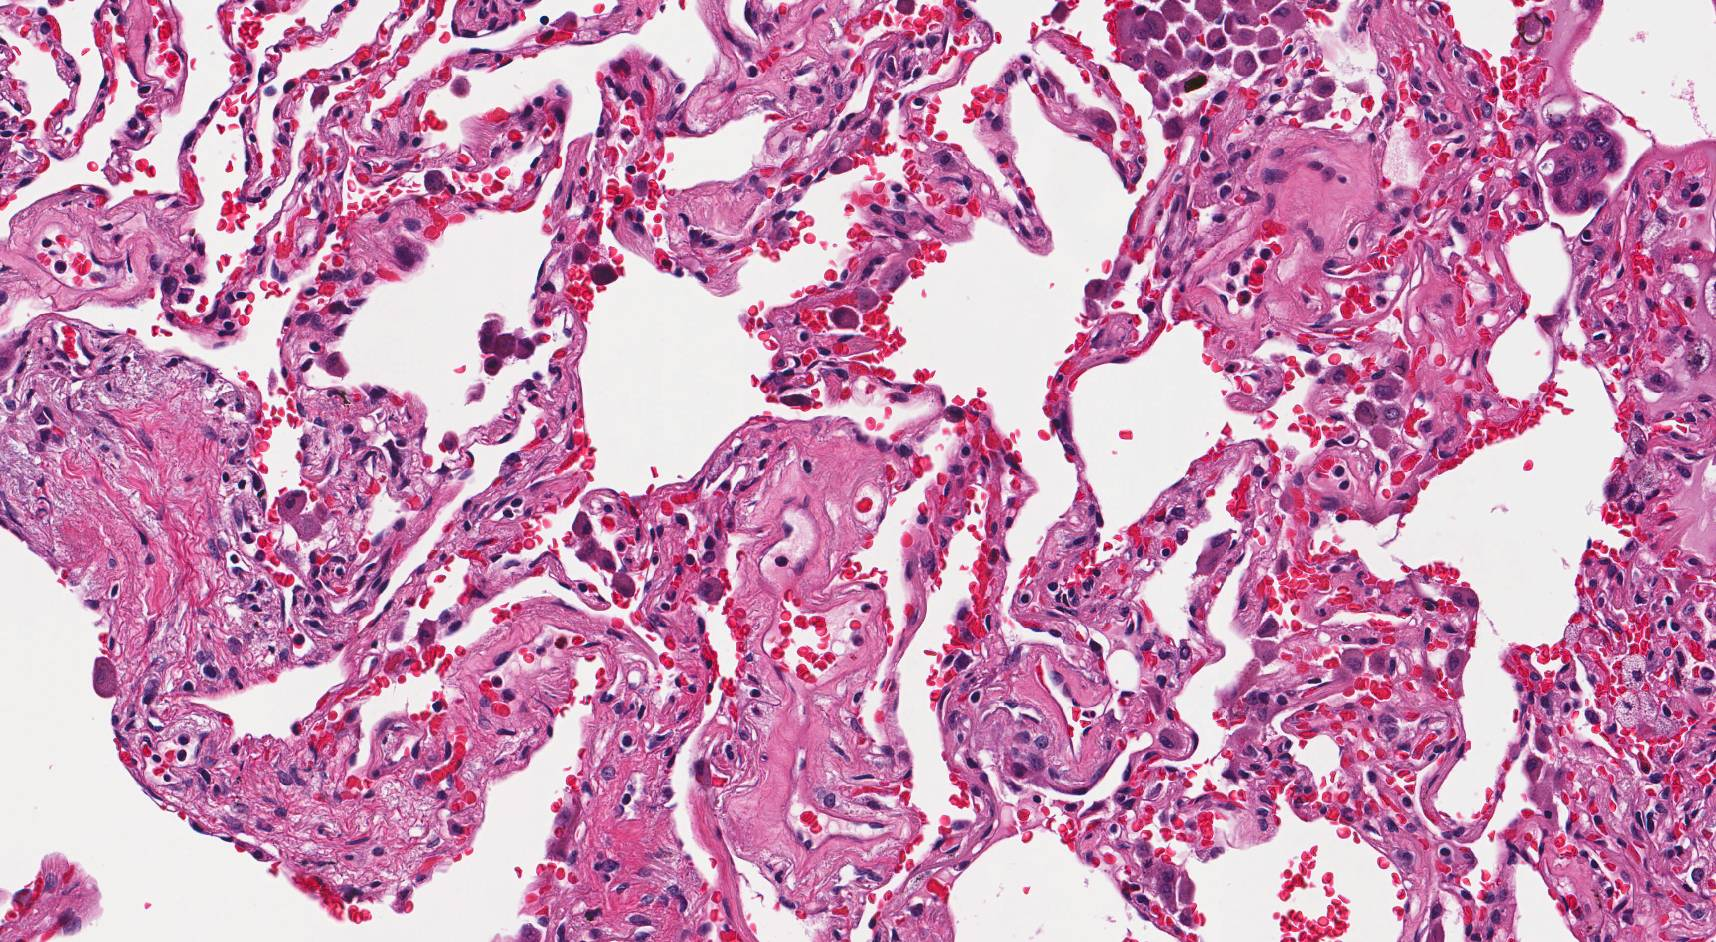stas: (1541, 116, 1624, 216)
